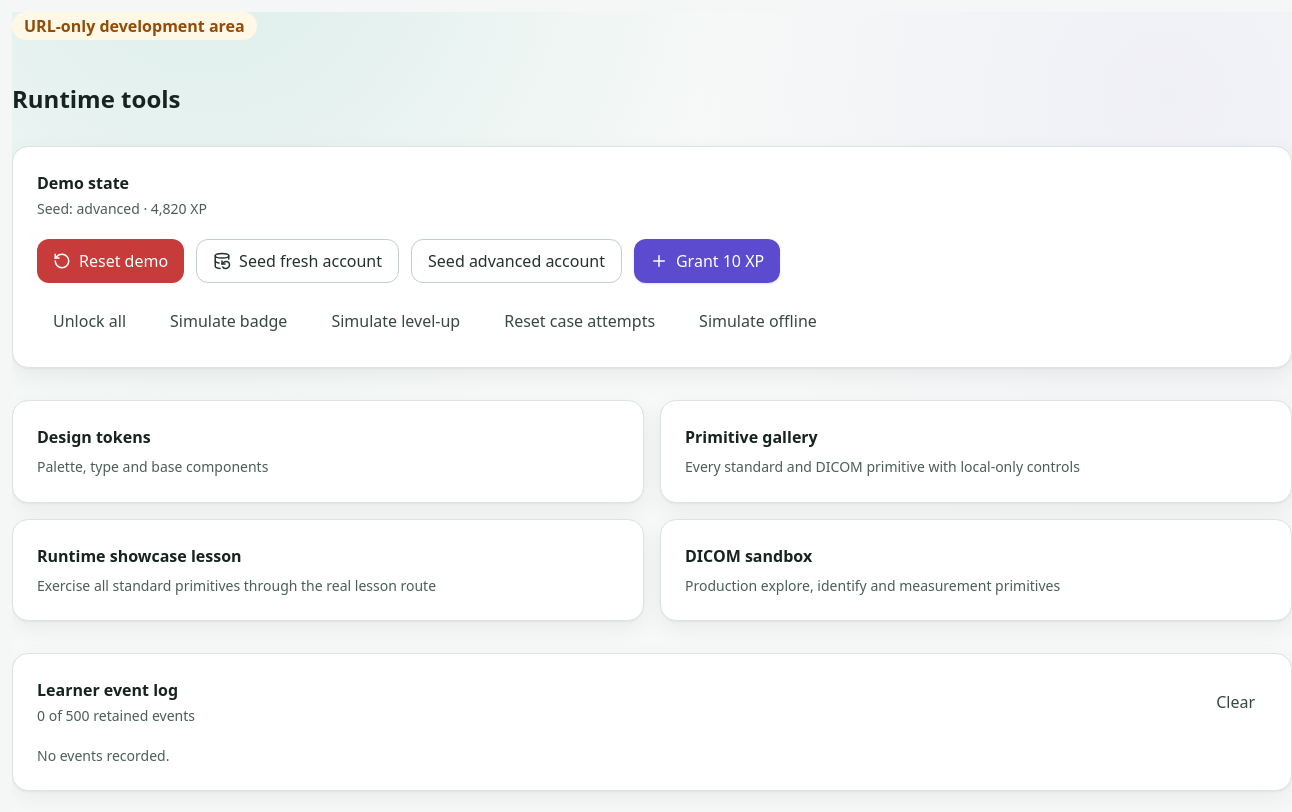
Test: DevPage reward simulations › resets saved case attempts from the developer menu
Click the button "Reset case attempts": click(580, 321) [488, 299, 671, 343]
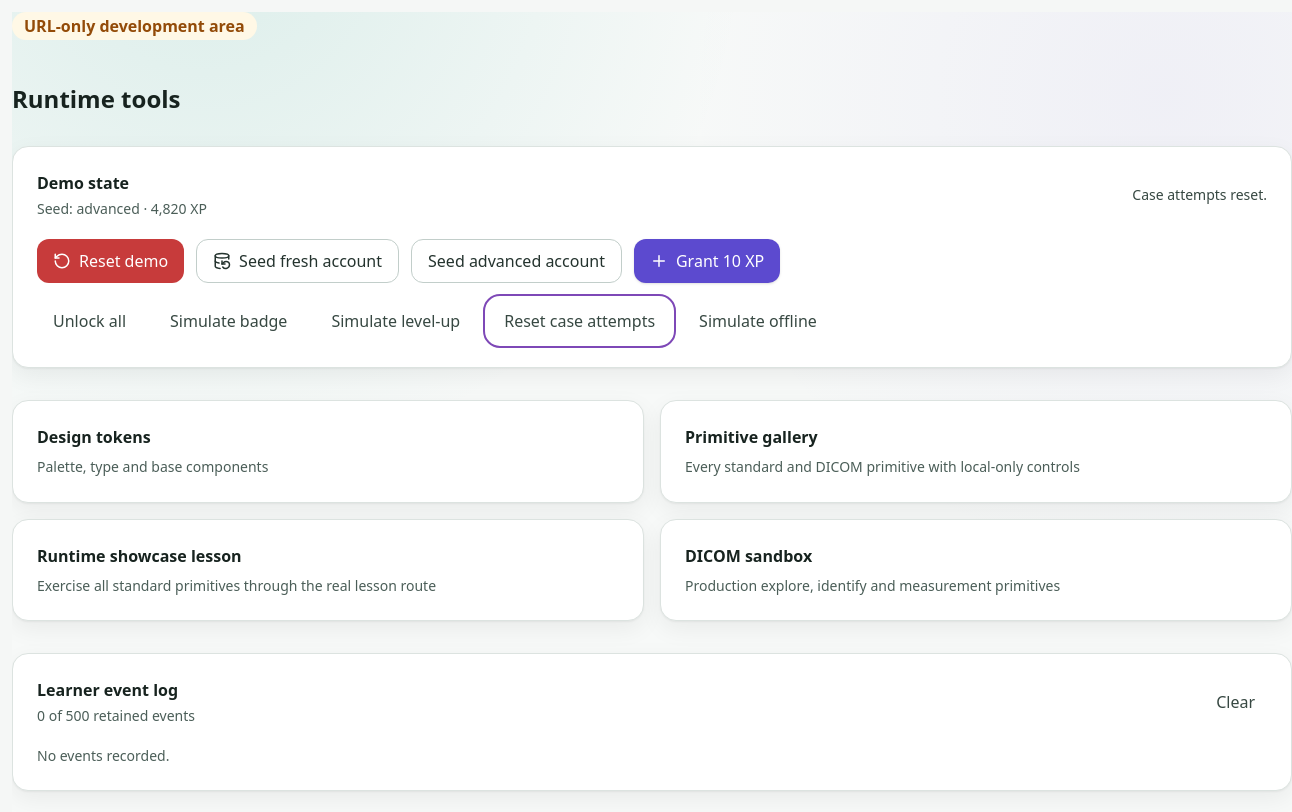
Expected: the text "Case attempts reset." is shown, [1132, 185, 1267, 205]
